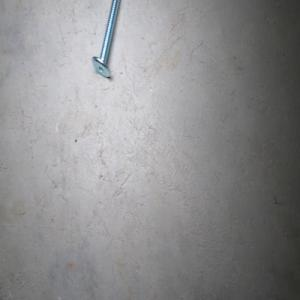Bolt: (91, 0, 121, 78)
